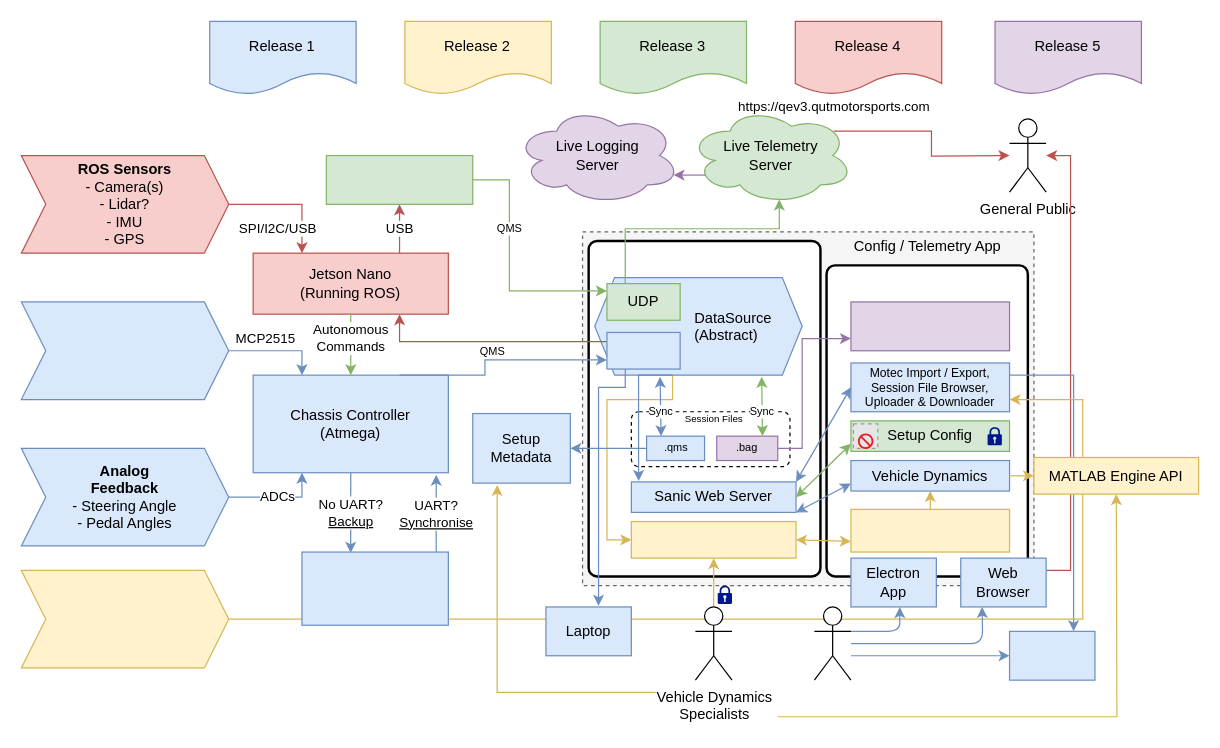
Some shapes in this 1220 by 748 pixel diagram are drawn without their labels. Grey dashed boxes stand in for pictures. The box of each missing label's shape, as (x1, y1, x2, y2) in pixels:
4G Dongle: (325, 154, 473, 204)
CANBus Feedback - Wheel RPMs: (20, 301, 229, 400)
Engineers: (813, 606, 851, 680)
Jupyter Widgets (Streamable Graphs): (850, 508, 1010, 552)
JupyterLab: (630, 520, 796, 558)
Motec Analysis: (1008, 630, 1095, 680)
Motec Datalogger: (20, 569, 229, 668)
Python Backend: (587, 239, 821, 577)
React Frontend: (825, 264, 1028, 577)
SD Card: (301, 551, 448, 625)
UART: (606, 331, 680, 369)
WebViz (ROS Visualization): (850, 301, 1010, 351)
